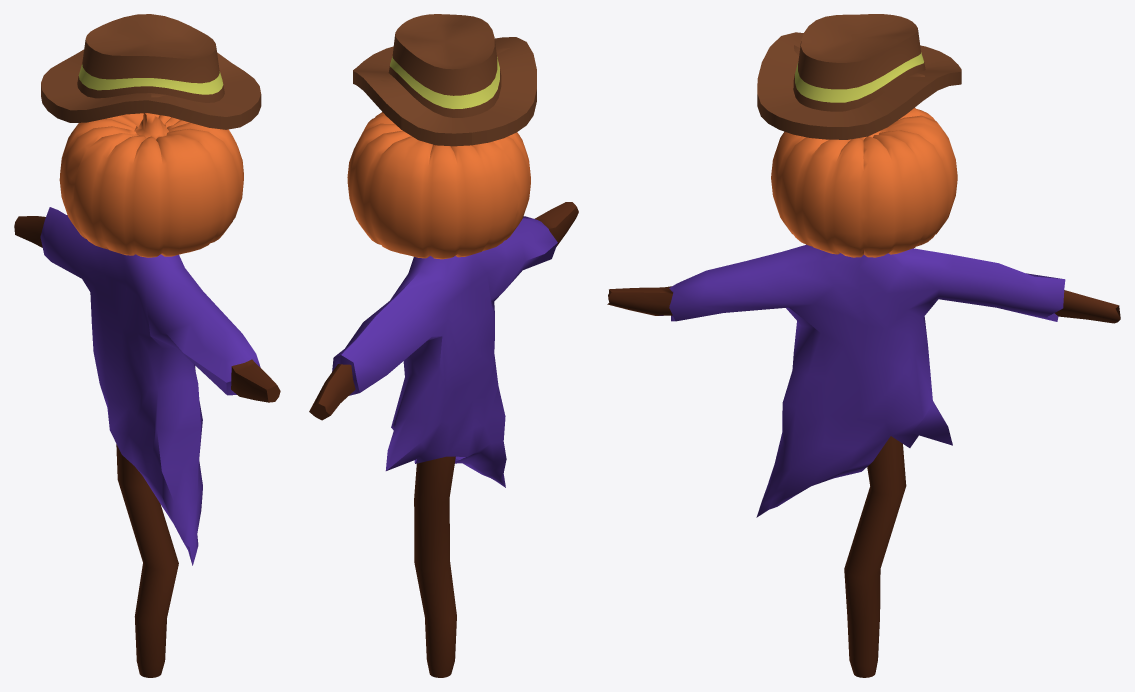
The model's file is scarecrow4.fbx.
3 renders of one model, left to right at view 1: azimuth 30°, elevation 25°; view 2: azimuth 150°, elevation 25°; view 3: azimuth 270°, elevation 25°, orthographic.
Parts seen in each view (by area): view 1: Stick; view 2: Stick; view 3: Stick.
Part boxes in pixels (x1,y1,x2,y2): Stick: (14,14,280,677); Stick: (309,14,578,677); Stick: (607,14,1120,677).
Size of the model in its own units: 58.26 by 203 by 147.
